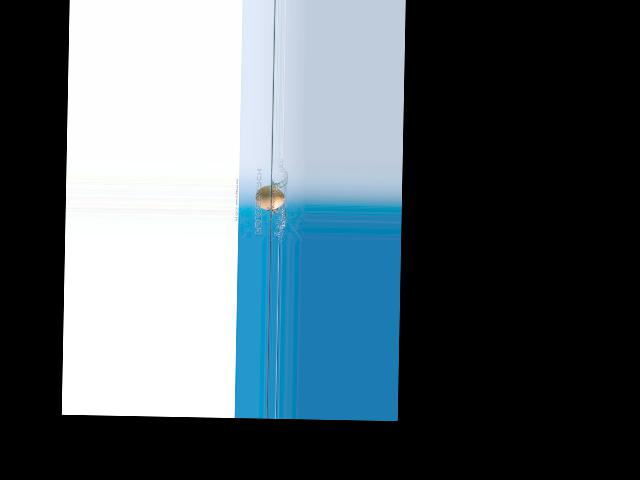egg: (255, 185, 284, 209)
